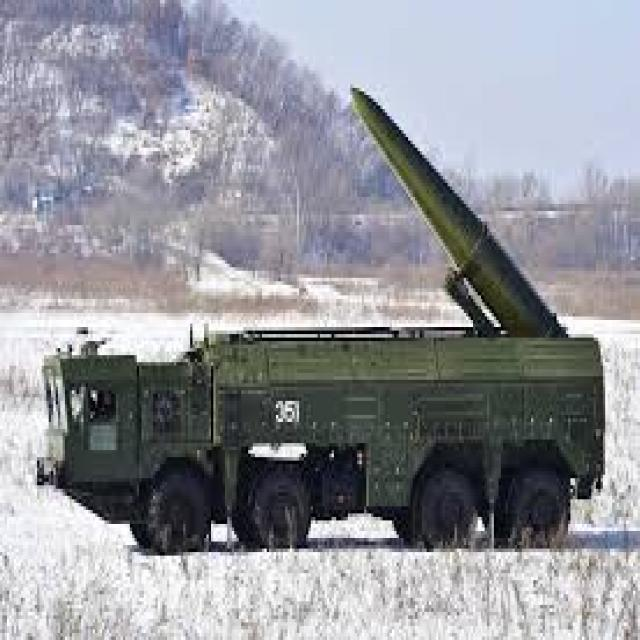missile: (344, 83, 574, 337)
